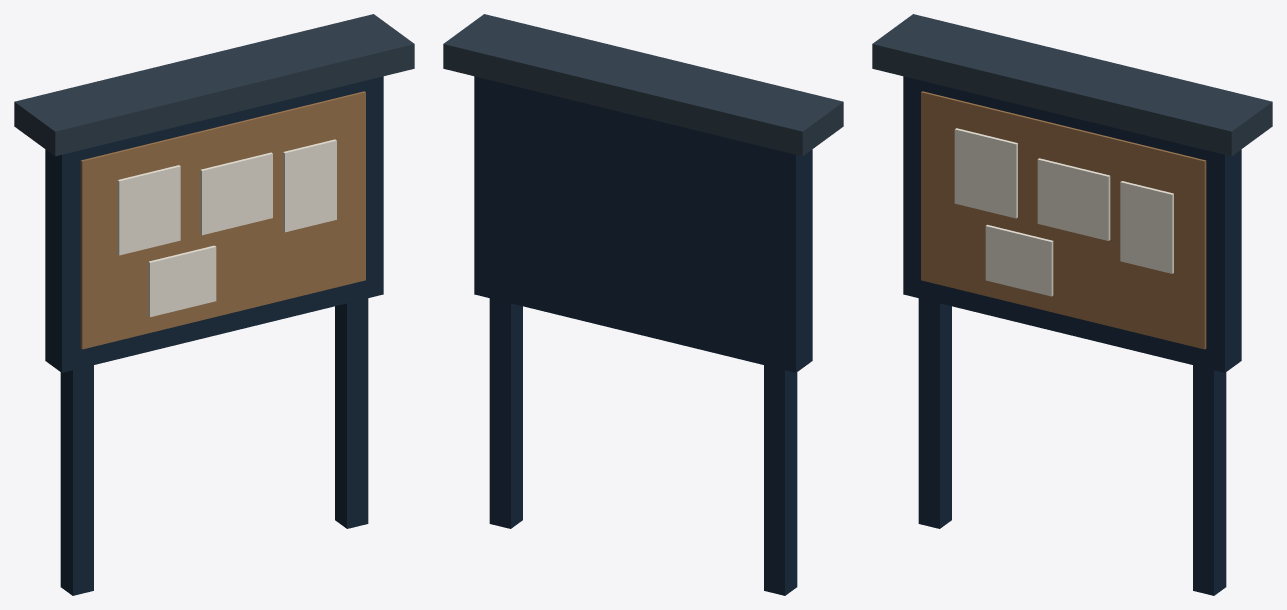
The model's file is notice_board.glb.
3 views of the same model, side by side, from view 1: azimuth 30°, elevation 25°; view 2: azimuth 150°, elevation 25°; view 3: azimuth 330°, elevation 25° (orthographic).
Visible parts, largest first — view 1: BoardCork, BoardCap, BoardFrame, BoardPost.001, BoardPost, NoticePaper, NoticePaper.001, NoticePaper.002, NoticePaper.003; view 2: BoardFrame, BoardCap, BoardPost.001, BoardPost; view 3: BoardCork, BoardCap, BoardFrame, BoardPost, BoardPost.001, NoticePaper.001, NoticePaper, NoticePaper.002, NoticePaper.003.
Boxes of the visible parts, x1,y1,x2,y2 form: BoardCork: (80, 91, 365, 349); BoardCap: (14, 14, 414, 156); BoardFrame: (45, 76, 383, 372); BoardPost.001: (335, 298, 368, 528); BoardPost: (60, 365, 93, 595); NoticePaper: (117, 165, 180, 255); NoticePaper.001: (200, 152, 272, 235); NoticePaper.002: (283, 139, 336, 232); NoticePaper.003: (148, 245, 216, 317); BoardFrame: (474, 76, 812, 372); BoardCap: (443, 14, 843, 156); BoardPost.001: (489, 298, 522, 528); BoardPost: (764, 365, 797, 595); BoardCork: (921, 91, 1206, 349); BoardCap: (872, 14, 1272, 156); BoardFrame: (903, 76, 1241, 372); BoardPost: (918, 298, 951, 528); BoardPost.001: (1193, 365, 1226, 595); NoticePaper.001: (1037, 158, 1110, 240); NoticePaper: (954, 128, 1017, 218); NoticePaper.002: (1120, 181, 1173, 273); NoticePaper.003: (985, 224, 1053, 296).
Size of the model in its own units: 1.52 by 1.95 by 0.3.
